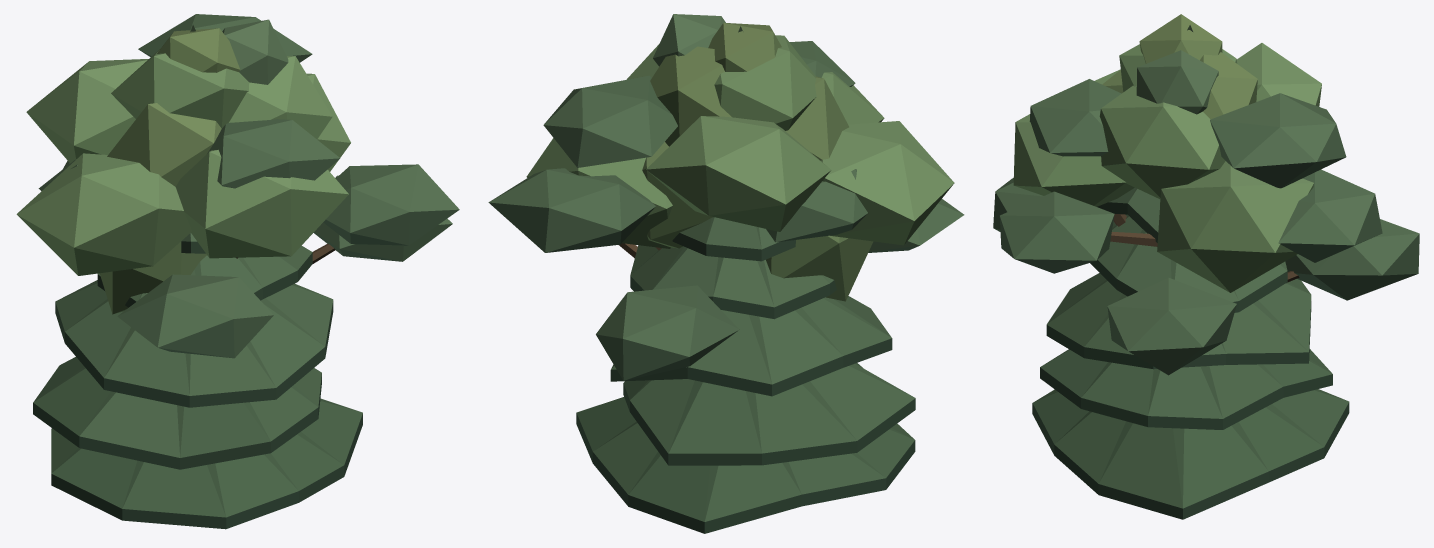
Rendered from trees.glb.
3 renders of one model, left to right at view 1: azimuth 30°, elevation 25°; view 2: azimuth 150°, elevation 25°; view 3: azimuth 270°, elevation 25°, orthographic. The views are drawn at different scales.
Parts seen in each view (by area): view 1: PineA, BroadA, PineB, BroadB; view 2: PineA, PineB, BroadA, BroadB; view 3: PineA, PineB, BroadA, BroadB.
Part boxes in pixels (x1,y1,x2,y2): PineA: (33,25,362,529); BroadA: (16,48,350,275); PineB: (38,14,459,358); BroadB: (99,28,240,314); PineA: (576,26,915,533); PineB: (488,14,964,380); BroadA: (526,35,954,250); BroadB: (642,22,873,301); PineA: (1032,25,1349,519); PineB: (993,50,1419,375); BroadA: (1013,43,1321,292); BroadB: (1102,14,1257,204).
Bounding box in the file's own units: 1.97 × 2.24 × 1.9.
